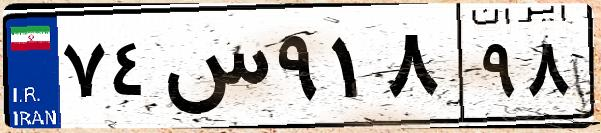1: (330, 28, 385, 110)
4: (110, 28, 158, 98)
7: (57, 26, 110, 100)
8: (385, 28, 445, 110), (525, 38, 570, 115)
9: (270, 28, 330, 110), (475, 38, 525, 113)
س: (158, 20, 270, 120)
